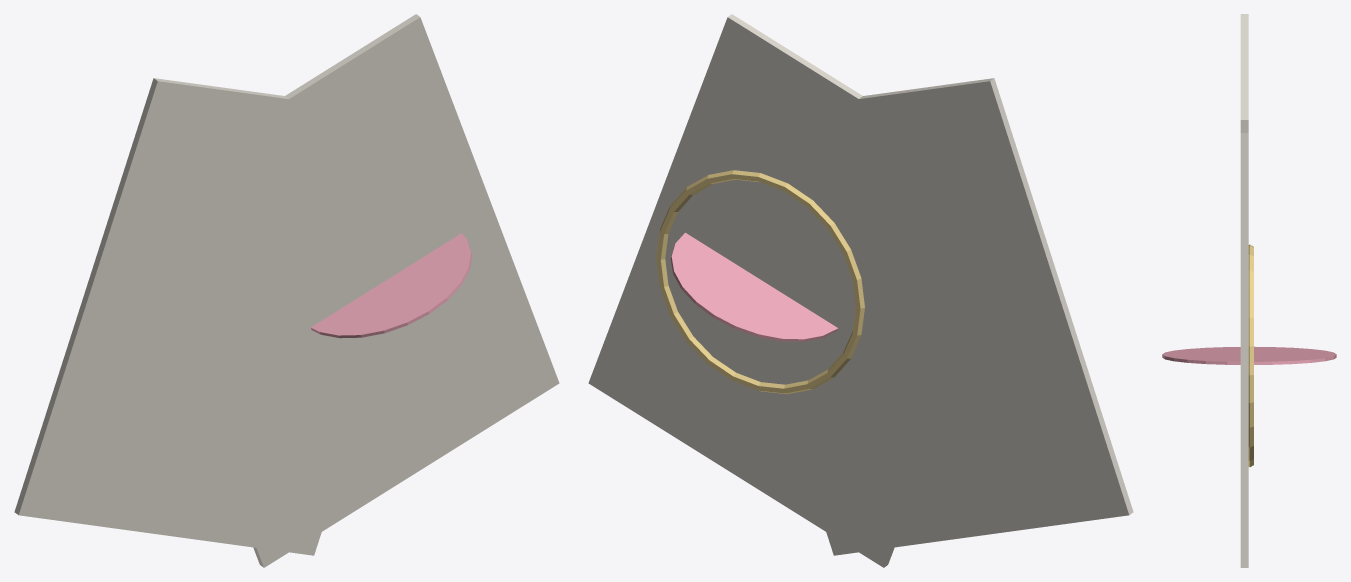
The model's file is item_60_greeting_card.glb.
The picture shows the model from 3 angles, left to right: view 1: azimuth 30°, elevation 25°; view 2: azimuth 150°, elevation 25°; view 3: azimuth 270°, elevation 25°; orthographic projection. The views are drawn at different scales.
Visible parts, largest first — view 1: I60_Half1, I60_Half0, I60_Pattern; view 2: I60_Half1, I60_Half0, I60_Pattern, I60_GoldRing; view 3: I60_Half0, I60_Pattern, I60_GoldRing, I60_Half1.
Boxes of the visible parts, <box> form: I60_Half1: <box>14,78,452,555</box>; I60_Half0: <box>125,14,559,567</box>; I60_Pattern: <box>310,233,471,338</box>; I60_Half1: <box>705,78,1133,555</box>; I60_Half0: <box>588,14,1022,567</box>; I60_Pattern: <box>670,232,837,341</box>; I60_GoldRing: <box>656,170,864,394</box>; I60_Half0: <box>1240,120,1248,567</box>; I60_Pattern: <box>1162,346,1336,364</box>; I60_GoldRing: <box>1248,244,1253,467</box>; I60_Half1: <box>1240,14,1248,119</box>.
Size of the model in its own units: 0.1462 by 0.1324 by 0.044.
